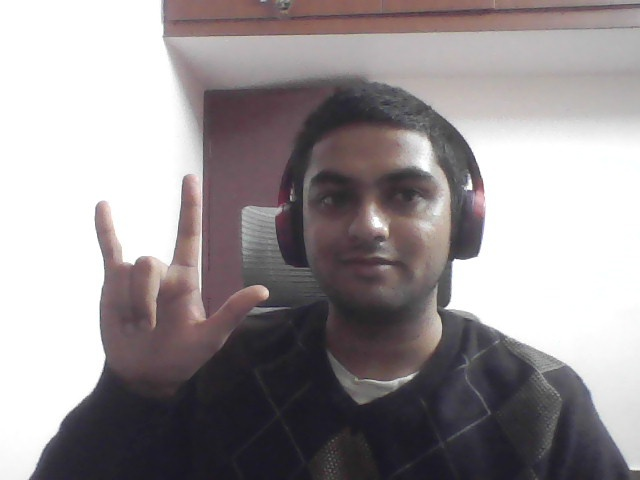I Love You: (70, 161, 275, 401)
